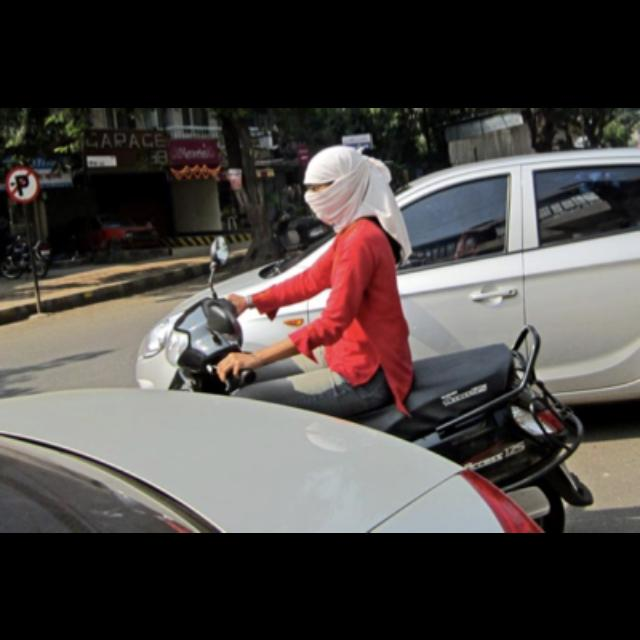Without Helmet: (290, 146, 398, 232)
